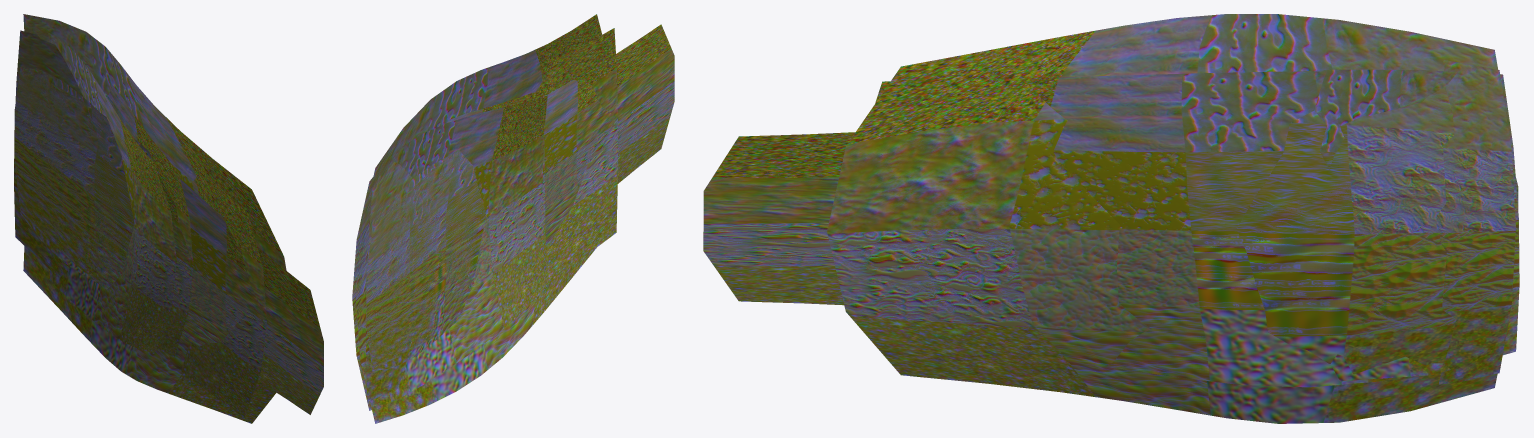
The model's file is zhexingcuishan_source_fx_input_01.glb.
3 views of the same model, side by side, from view 1: azimuth 30°, elevation 25°; view 2: azimuth 150°, elevation 25°; view 3: azimuth 270°, elevation 25° (orthographic). The views are drawn at different scales.
Visible parts, largest first — view 1: wp_saber_xingtian; view 2: wp_saber_xingtian; view 3: wp_saber_xingtian.
Part boxes in pixels (x1,y1,x2,y2): wp_saber_xingtian: (14,14,323,423); wp_saber_xingtian: (352,14,674,423); wp_saber_xingtian: (703,14,1519,423).
Size of the model in its own units: 0.0368 by 0.2664 by 0.4808.
1 material, 1 textured.
